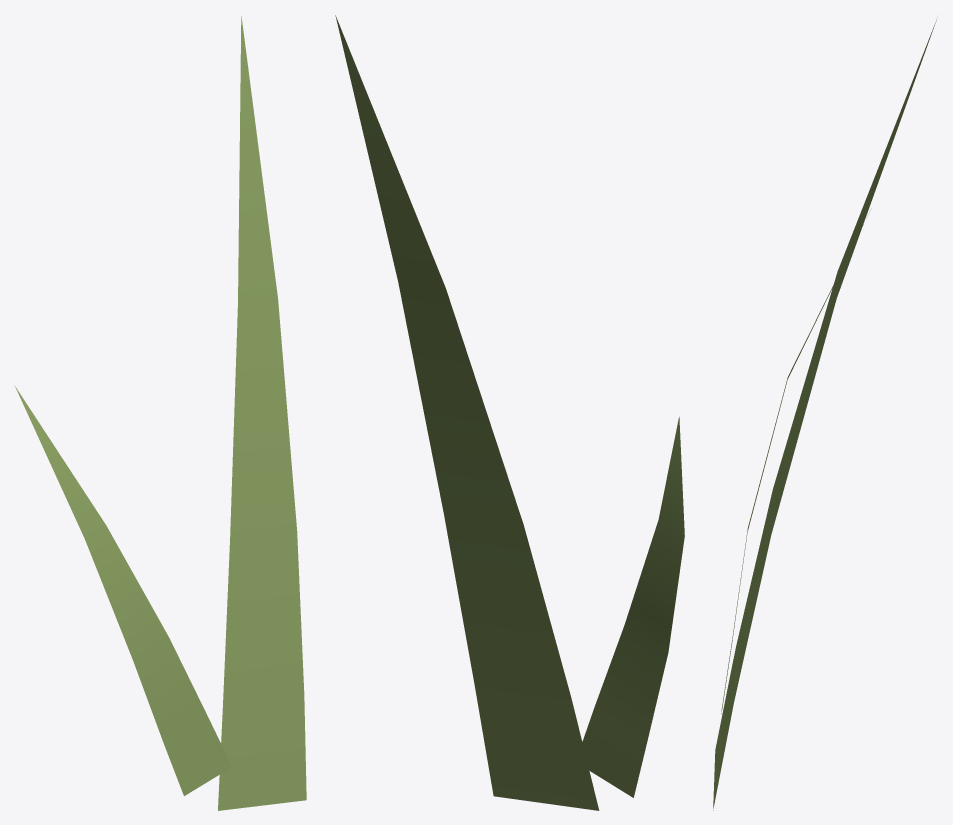
Rendered from SM_GrassClump_03.fbx.
3 renders of one model, left to right at view 1: azimuth 30°, elevation 25°; view 2: azimuth 150°, elevation 25°; view 3: azimuth 270°, elevation 25°, orthographic. The views are drawn at different scales.
Parts seen in each view (by area): view 1: SM_GrassClump_03; view 2: SM_GrassClump_03; view 3: SM_GrassClump_03.
Boxes of the visible parts, x1,y1,x2,y2 form: SM_GrassClump_03: (14,16,306,810); SM_GrassClump_03: (335,15,684,810); SM_GrassClump_03: (713,19,936,810).
Size of the model in its own units: 4.08 by 10.82 by 2.71.
